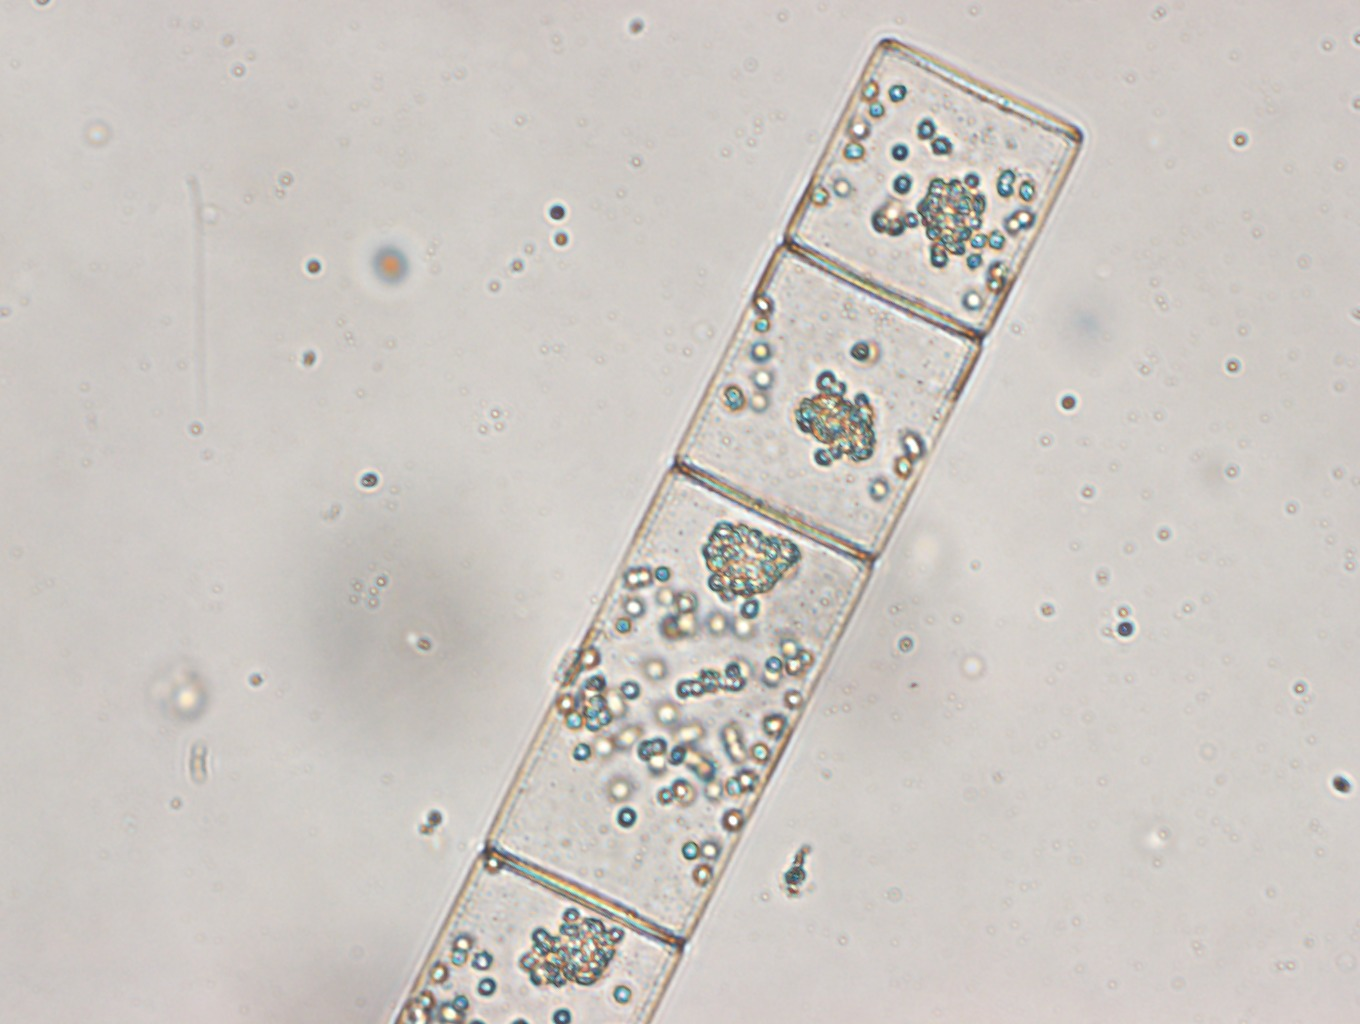guinardia flaccida: (389, 33, 1086, 1024)
